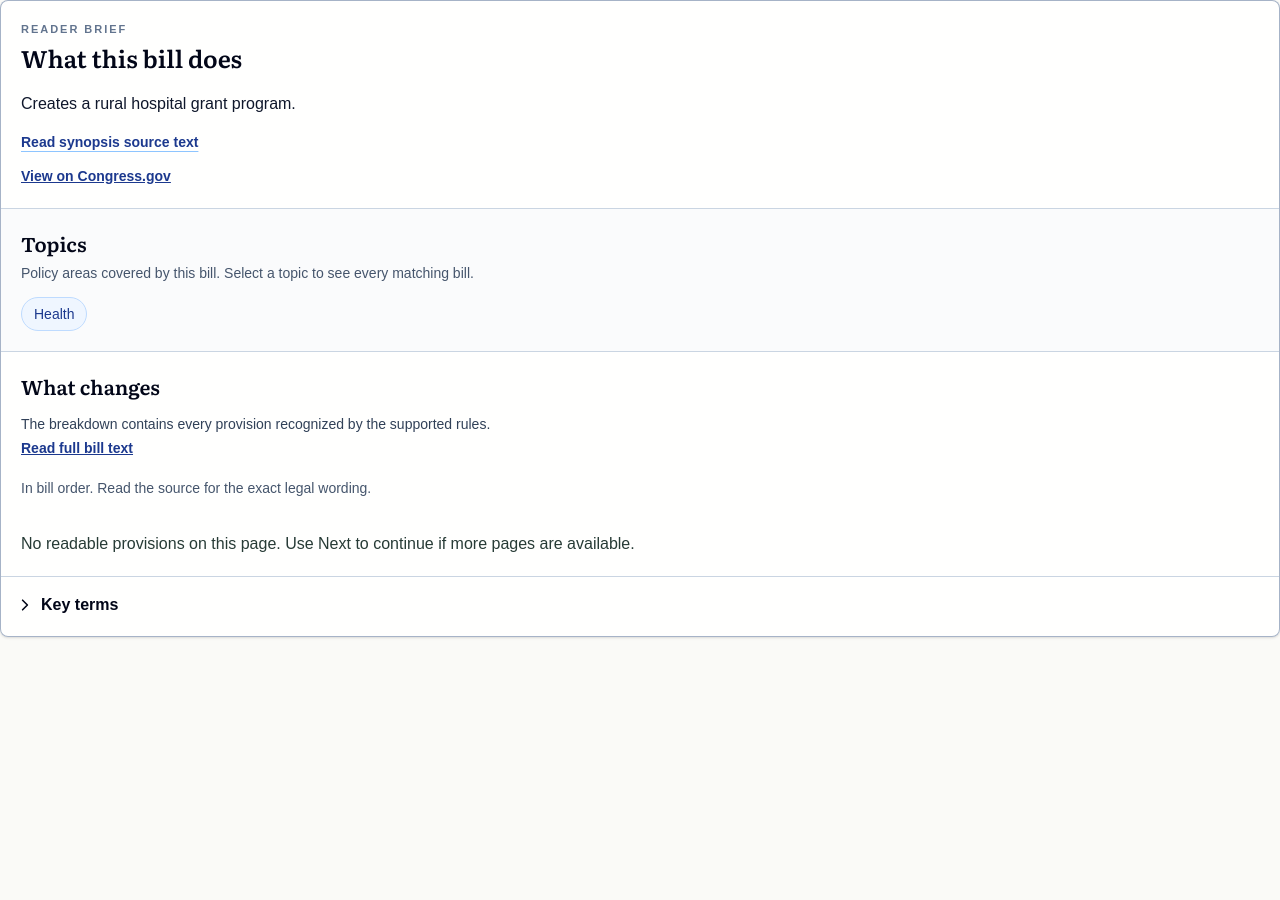
Test: BillBrief › shows a cited non-AI synopsis when there is no official summary
expect the text "Creates a rural hospital grant program." is shown: met, box 21,94 -> 296,112
What coordinates should you click on to do the following:
click the button "Read synopsis source text"
I would click on:
 (110, 142)
Its box is 21,132 -> 198,152.
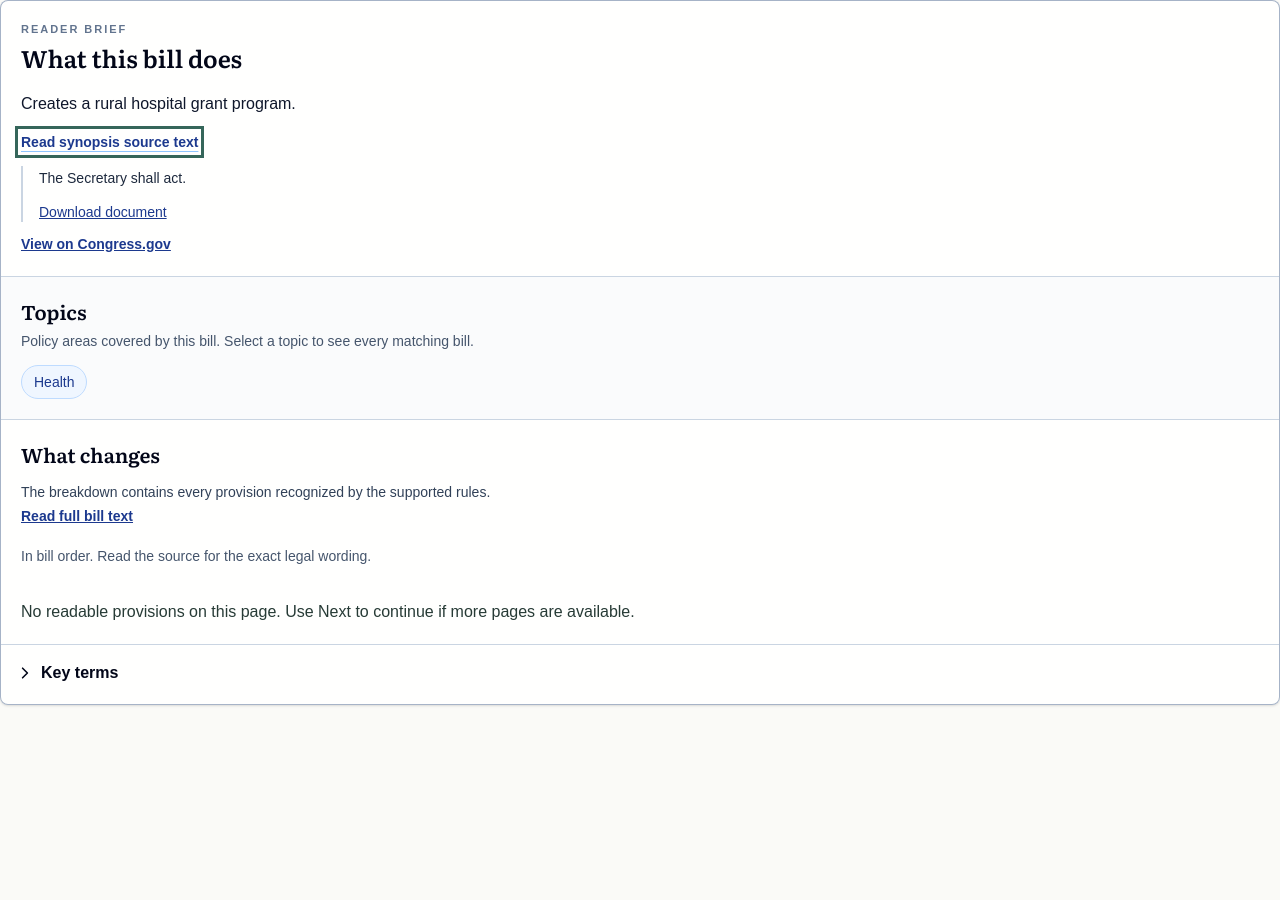
expect the text "The Secretary shall act." is shown: met, box 39,170 -> 186,186
